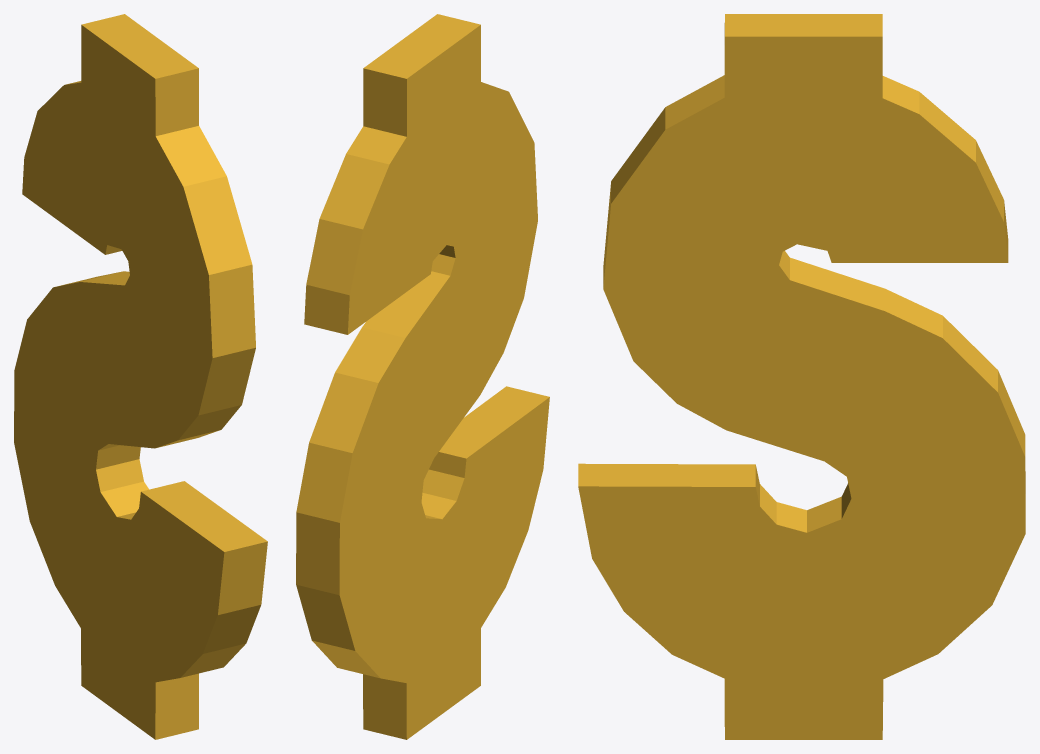
Rendered from dollar.glb.
The picture shows the model from 3 angles, left to right: view 1: azimuth 30°, elevation 25°; view 2: azimuth 150°, elevation 25°; view 3: azimuth 270°, elevation 25°; orthographic projection. The views are drawn at different scales.
Visible parts, largest first — view 1: Object_2; view 2: Object_2; view 3: Object_2.
Boxes of the visible parts, <box> form: Object_2: <box>14,14,267,739</box>; Object_2: <box>296,14,549,739</box>; Object_2: <box>578,14,1025,739</box>.
Bounding box in the file's own units: 0.6852 × 9.94 × 5.73.
